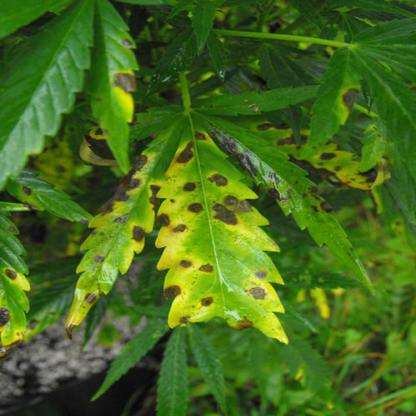tomato leaf bacterial spot: (155, 126, 294, 344), (56, 128, 183, 326), (68, 9, 155, 174), (288, 49, 367, 161)
